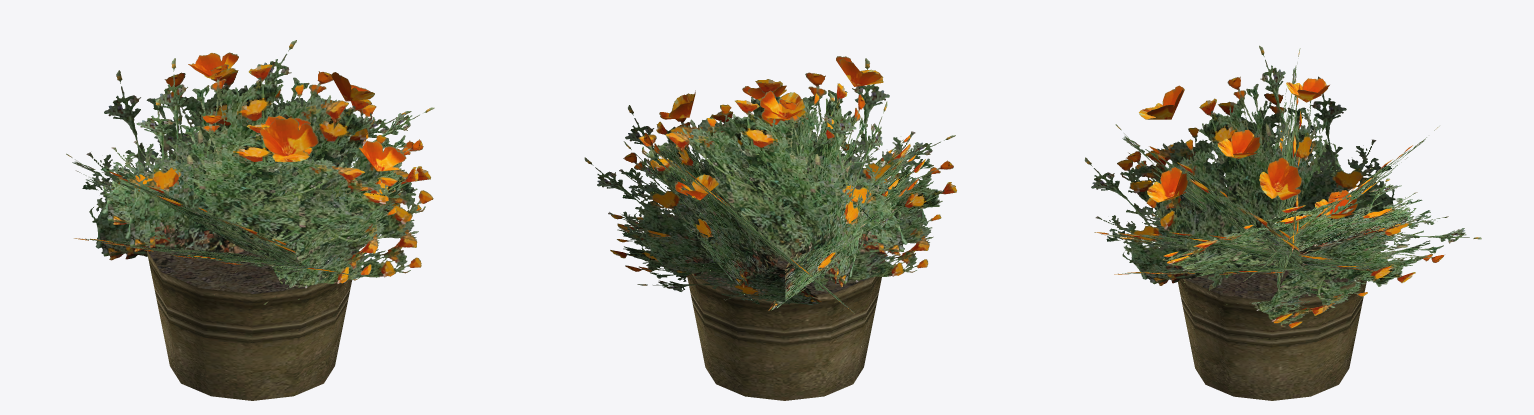
The model's file is frn_all_potted_plants_sml_s01_l0.fbx.
3 renders of one model, left to right at view 1: azimuth 30°, elevation 25°; view 2: azimuth 150°, elevation 25°; view 3: azimuth 270°, elevation 25°, orthographic. The views are drawn at different scales.
Parts seen in each view (by area): view 1: mesh_node; view 2: mesh_node; view 3: mesh_node.
Boxes of the visible parts, left/top/right/bottom form: mesh_node: left=66, top=40, right=434, bottom=400; mesh_node: left=584, top=56, right=956, bottom=400; mesh_node: left=1084, top=45, right=1481, bottom=400.
Size of the model in its own units: 1.58 by 1.08 by 1.6.
